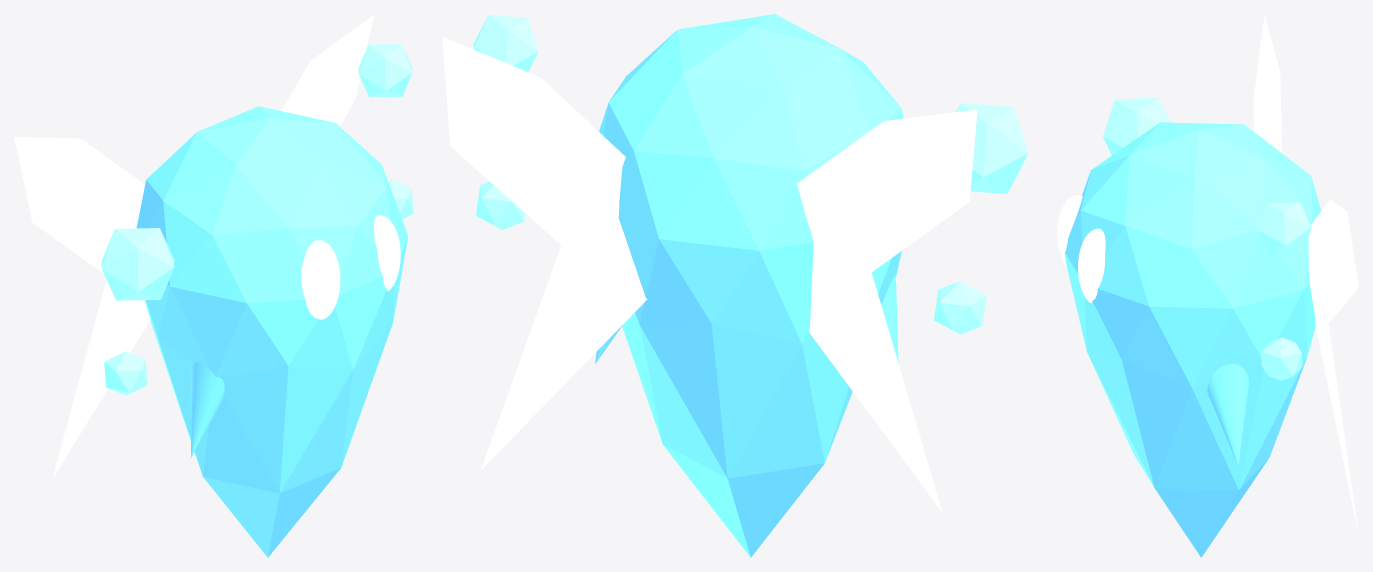
Rendered from Forma_LuzCristal.glb.
3 views of the same model, side by side, from view 1: azimuth 30°, elevation 25°; view 2: azimuth 150°, elevation 25°; view 3: azimuth 270°, elevation 25° (orthographic). The views are drawn at different scales.
Parts seen in each view (by area): view 1: Icosphere.001, Icosphere.003, Icosphere.002, Icosphere, Cone; view 2: Icosphere.001, Icosphere.003, Icosphere.002, Cone; view 3: Icosphere.001, Icosphere.003, Icosphere.002, Cone, Icosphere.
Boxes of the visible parts, box(x1,y1,x2,y2) form: Icosphere.001: box(136, 106, 408, 557); Icosphere.003: box(14, 14, 374, 478); Icosphere.002: box(101, 43, 413, 395); Icosphere: box(301, 215, 400, 319); Cone: box(190, 362, 224, 458); Icosphere.001: box(599, 14, 903, 557); Icosphere.003: box(442, 36, 977, 511); Icosphere.002: box(473, 15, 1028, 334); Cone: box(595, 275, 898, 363); Icosphere.001: box(1065, 122, 1321, 557); Icosphere.003: box(1253, 15, 1358, 529); Icosphere.002: box(1103, 97, 1311, 380); Cone: box(1207, 364, 1248, 465); Icosphere: box(1057, 195, 1105, 302).
Bounding box in the file's own units: 2.05 × 2.16 × 1.35.
